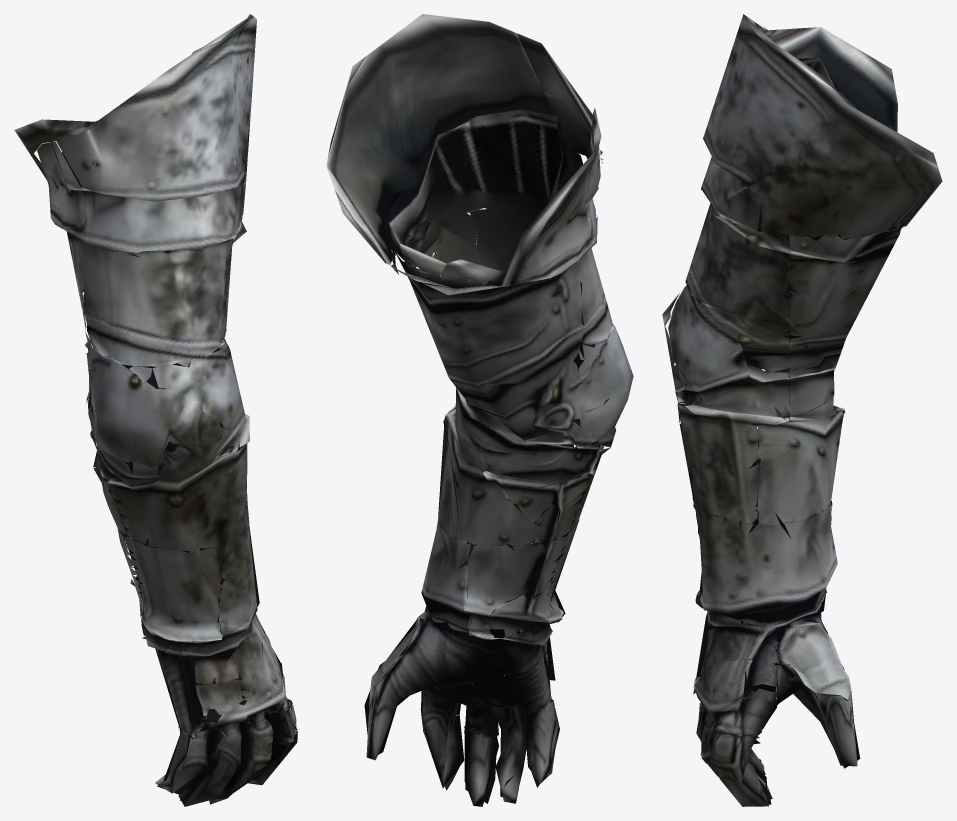
File: a_steel_gauntlet.glb
3 views of the same model, side by side, from view 1: azimuth 30°, elevation 25°; view 2: azimuth 150°, elevation 25°; view 3: azimuth 270°, elevation 25° (orthographic). The views are drawn at different scales.
Visible parts, largest first — view 1: geometry_0; view 2: geometry_0; view 3: geometry_0.
Boxes of the visible parts, bbox=[...] form: geometry_0: bbox=[14, 14, 297, 806]; geometry_0: bbox=[326, 14, 633, 806]; geometry_0: bbox=[662, 14, 942, 806].
Bounding box in the file's own units: 0.1102 × 0.3592 × 0.1168.
1 material, 1 textured.
